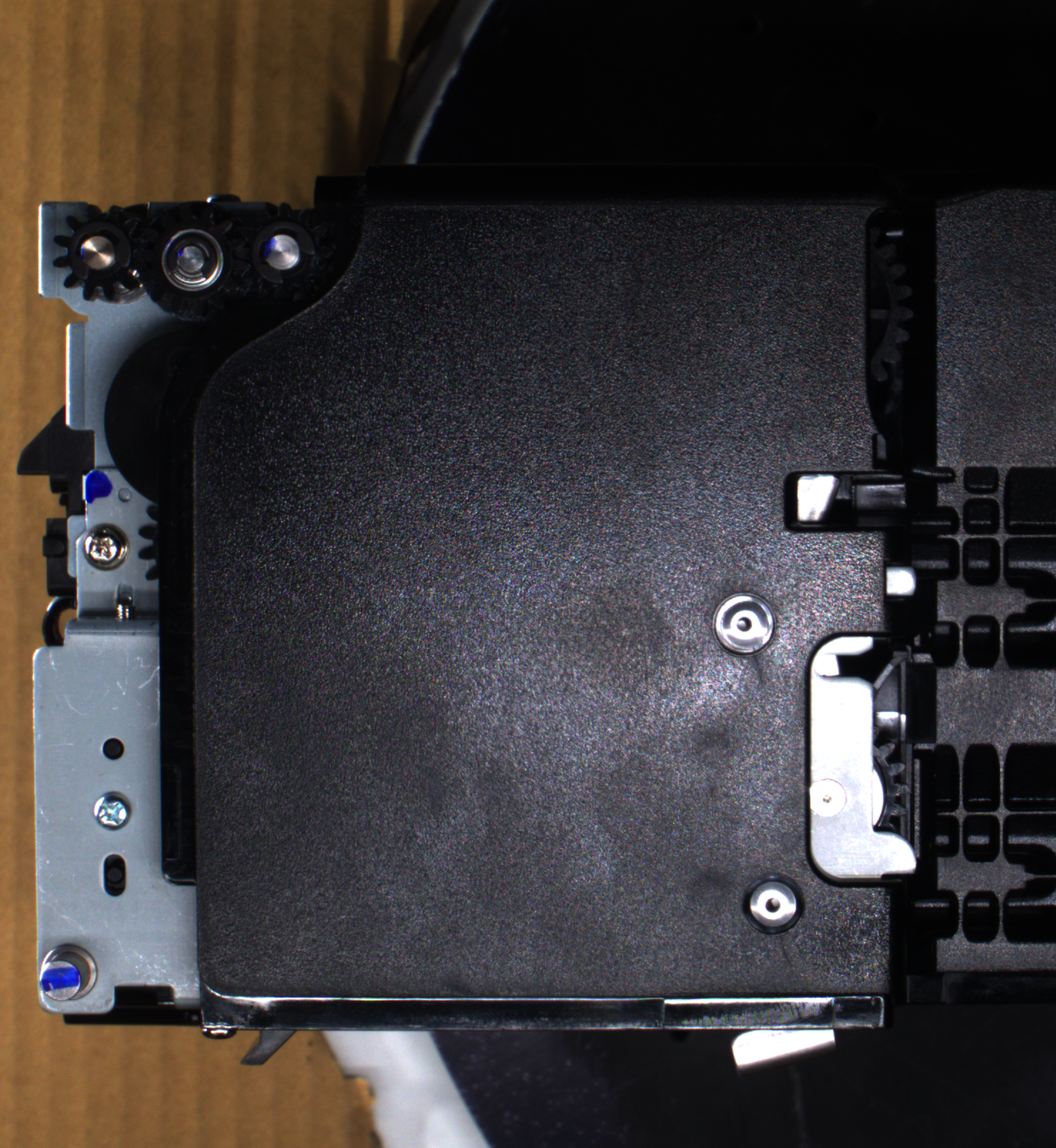centre_pin_presence: (724, 1013, 840, 1077)
centre_plate_presence: (800, 625, 927, 891)
centre_screw_presence: (708, 587, 781, 662), (737, 867, 809, 940)
gear1_presence: (50, 201, 152, 308)
gear2_presence: (136, 201, 250, 321)
gear3_presence: (232, 202, 332, 304)
side_screw_presence: (79, 520, 132, 572), (90, 790, 135, 832)
slanting_pin_presence: (34, 939, 107, 1011)
